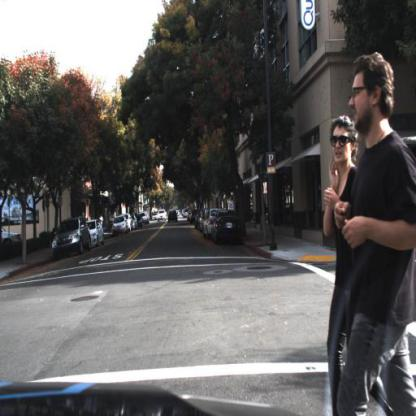car: (50, 213, 93, 259), (211, 208, 248, 252), (2, 223, 23, 252), (86, 219, 107, 248), (112, 214, 129, 237), (205, 211, 217, 242), (158, 208, 167, 224)
pedestrian: (334, 51, 416, 416), (324, 116, 404, 416)
